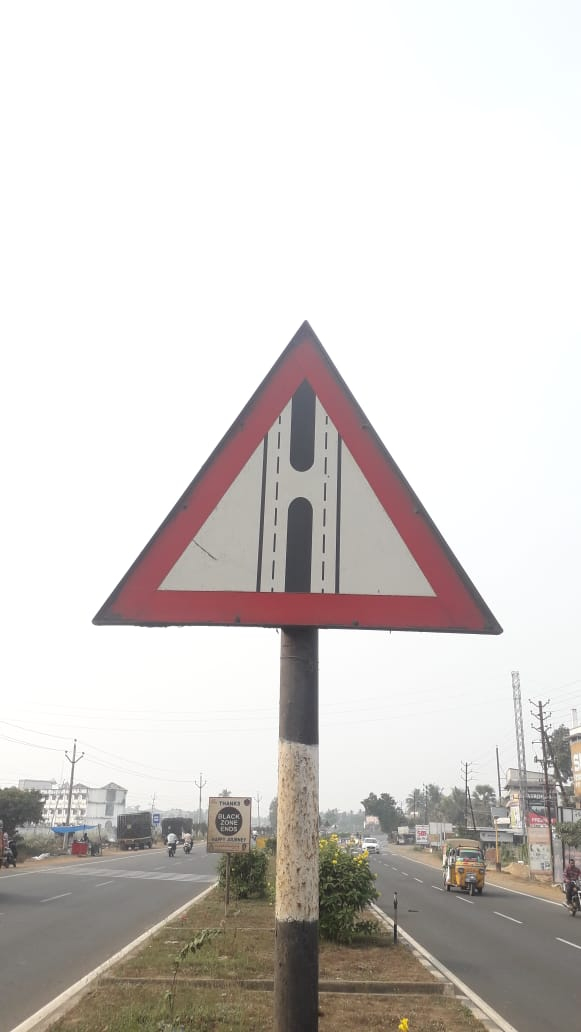highway go straight: (74, 308, 534, 666)
